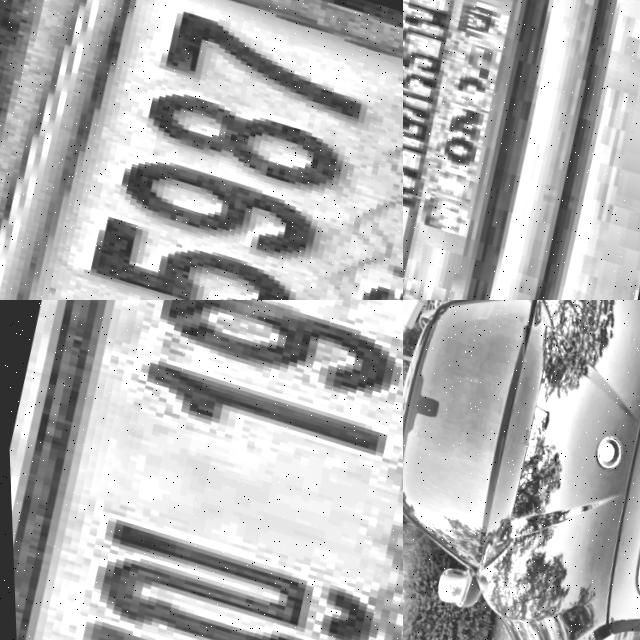license-plate: (0, 300, 403, 640), (0, 0, 403, 300), (403, 0, 550, 300)
